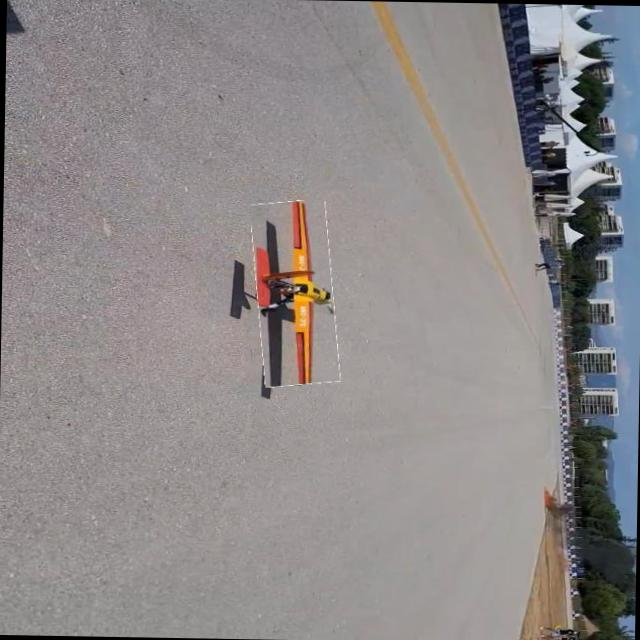UAV: (226, 200, 342, 378)
